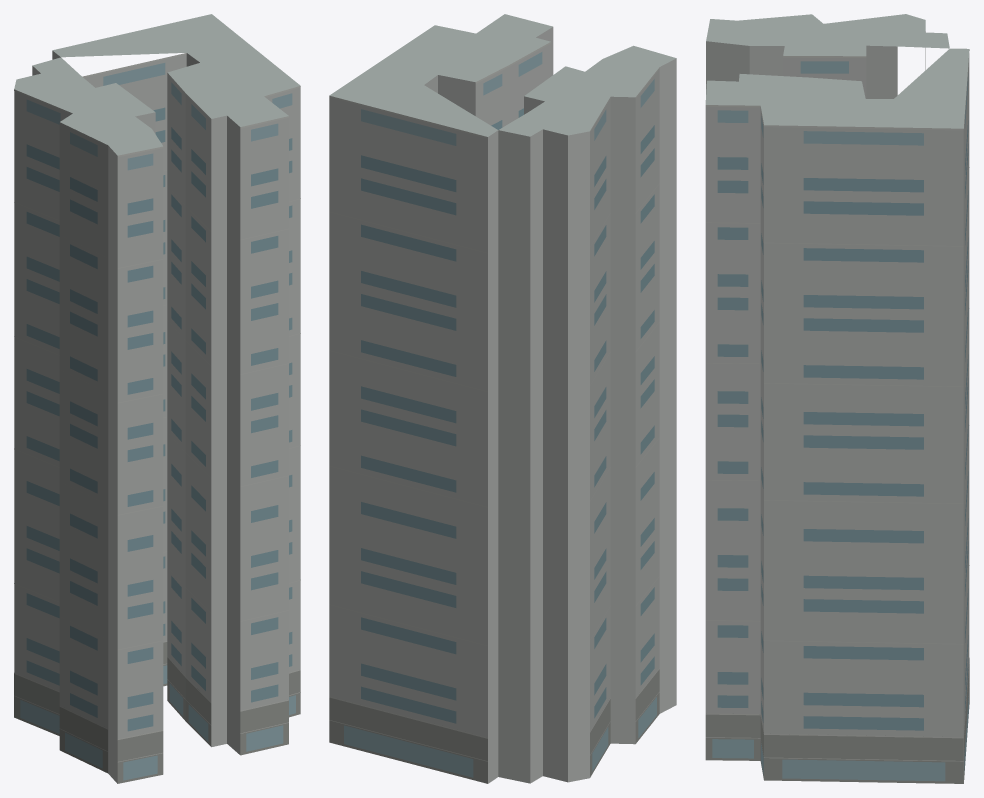
Rendered from residential-3220c637-8edc-4523-87a5-8bdfe2aa1af4.glb.
The picture shows the model from 3 angles, left to right: view 1: azimuth 30°, elevation 25°; view 2: azimuth 150°, elevation 25°; view 3: azimuth 270°, elevation 25°; orthographic projection. The views are drawn at different scales.
Parts seen in each view (by area): view 1: residential-3220c637-8edc-4523-87a5-8bdfe2aa1af4.tmp; view 2: residential-3220c637-8edc-4523-87a5-8bdfe2aa1af4.tmp; view 3: residential-3220c637-8edc-4523-87a5-8bdfe2aa1af4.tmp.
Part boxes in pixels (x1,y1,x2,y2): residential-3220c637-8edc-4523-87a5-8bdfe2aa1af4.tmp: [14, 14, 300, 783]; residential-3220c637-8edc-4523-87a5-8bdfe2aa1af4.tmp: [329, 14, 676, 783]; residential-3220c637-8edc-4523-87a5-8bdfe2aa1af4.tmp: [705, 14, 969, 783].
Bounding box in the file's own units: 33.74 × 89.8 × 32.81.
